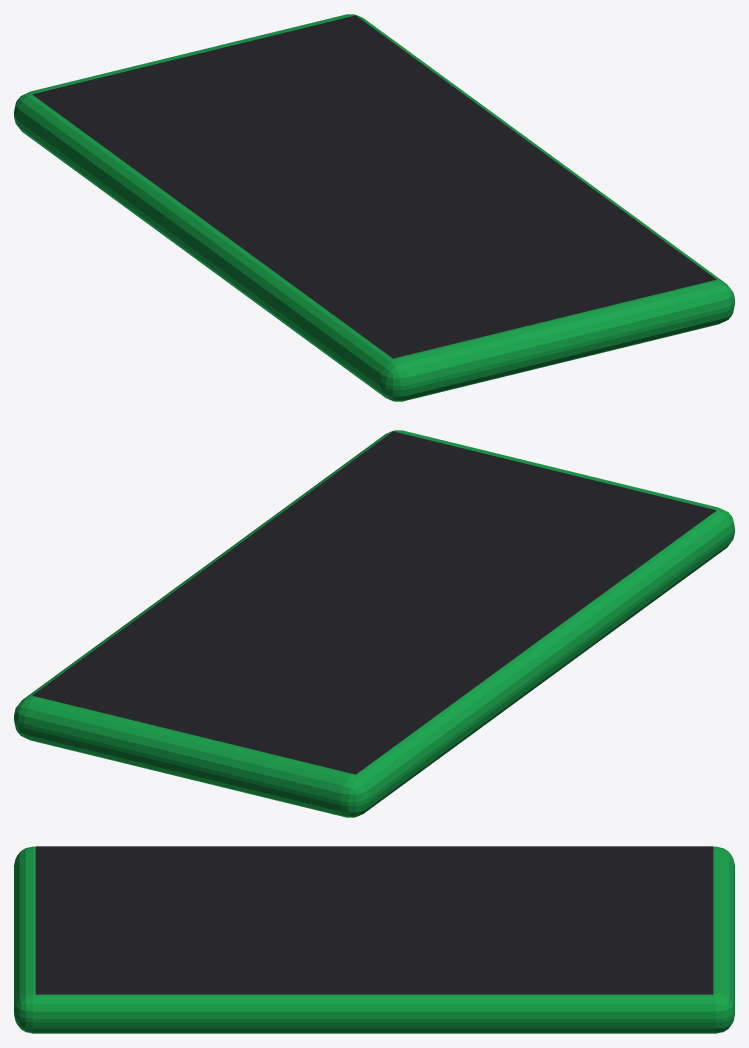
File: oppo-reno-model-296-mid-range-2023.glb
3 renders of one model, top to bottom at view 1: azimuth 30°, elevation 25°; view 2: azimuth 150°, elevation 25°; view 3: azimuth 270°, elevation 25°, orthographic. The views are drawn at different scales.
Parts seen in each view (by area): view 1: Phone_Screen, Phone_Body; view 2: Phone_Screen, Phone_Body; view 3: Phone_Screen, Phone_Body.
Part boxes in pixels (<box>): Phone_Screen: <box>32,15,716,358</box>; Phone_Body: <box>14,14,734,401</box>; Phone_Screen: <box>32,431,716,774</box>; Phone_Body: <box>14,430,734,817</box>; Phone_Screen: <box>35,846,713,994</box>; Phone_Body: <box>14,846,734,1033</box>.
Size of the model in its own units: 0.0755 by 0.0085 by 0.1427.
